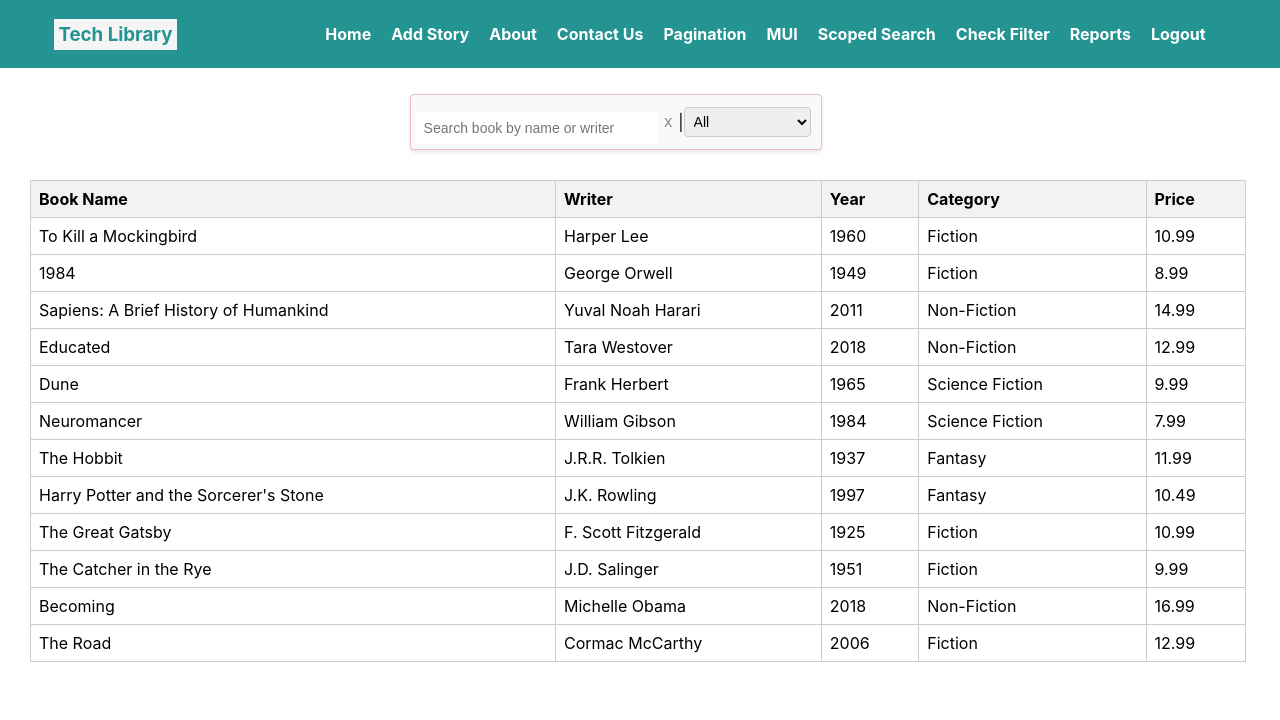
ScopedSearch Component › filters books based on search term and dropdown value
Find the search input and dropdown elements
Select "Fantasy" in the dropdown "All": (747, 122) [684,107,811,137]
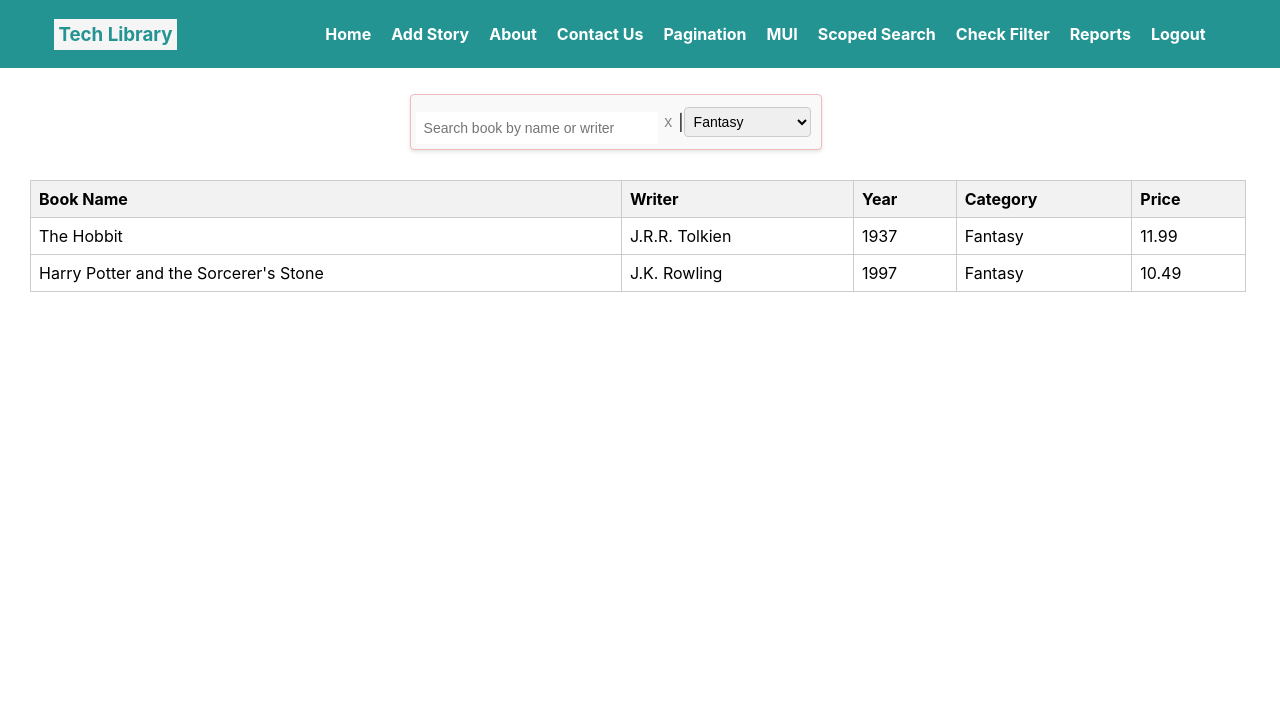
In the field with placeholder "Search book by name or writer": (537, 128) [416,112,658,144], type "harry"
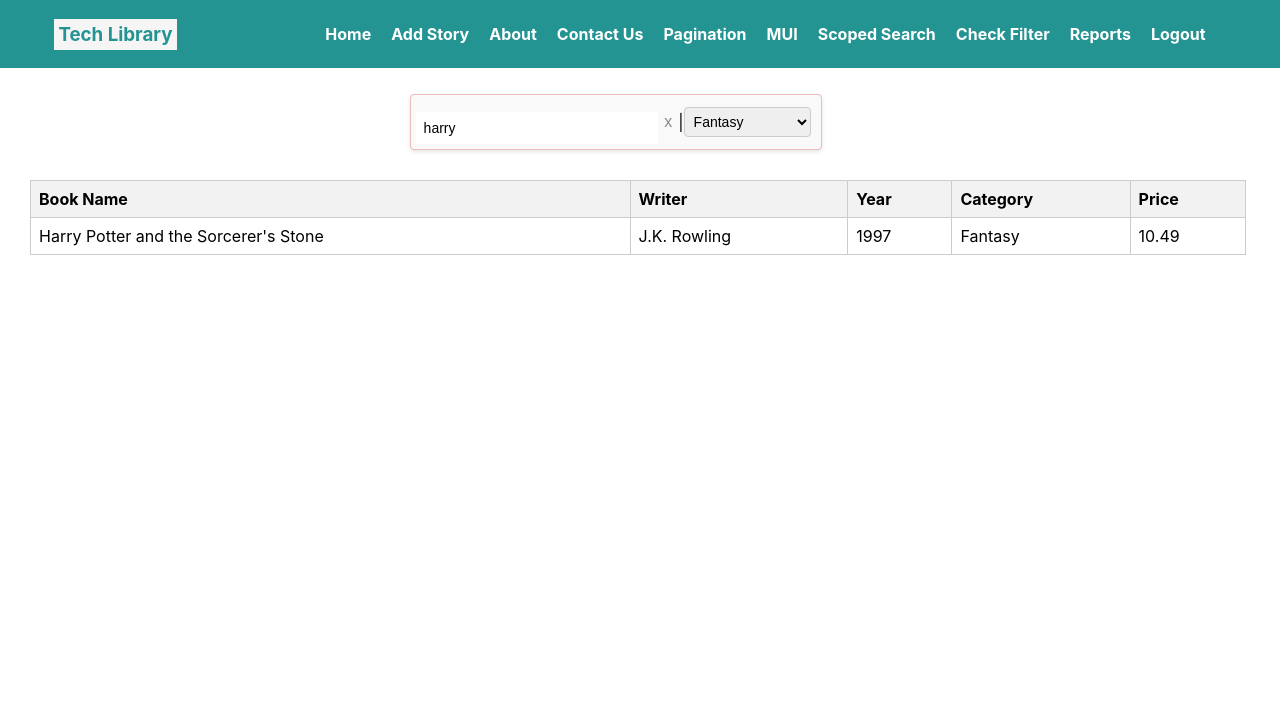
Now the number of rows is 2, box [30,180,1246,218]; [30,218,1246,254]
